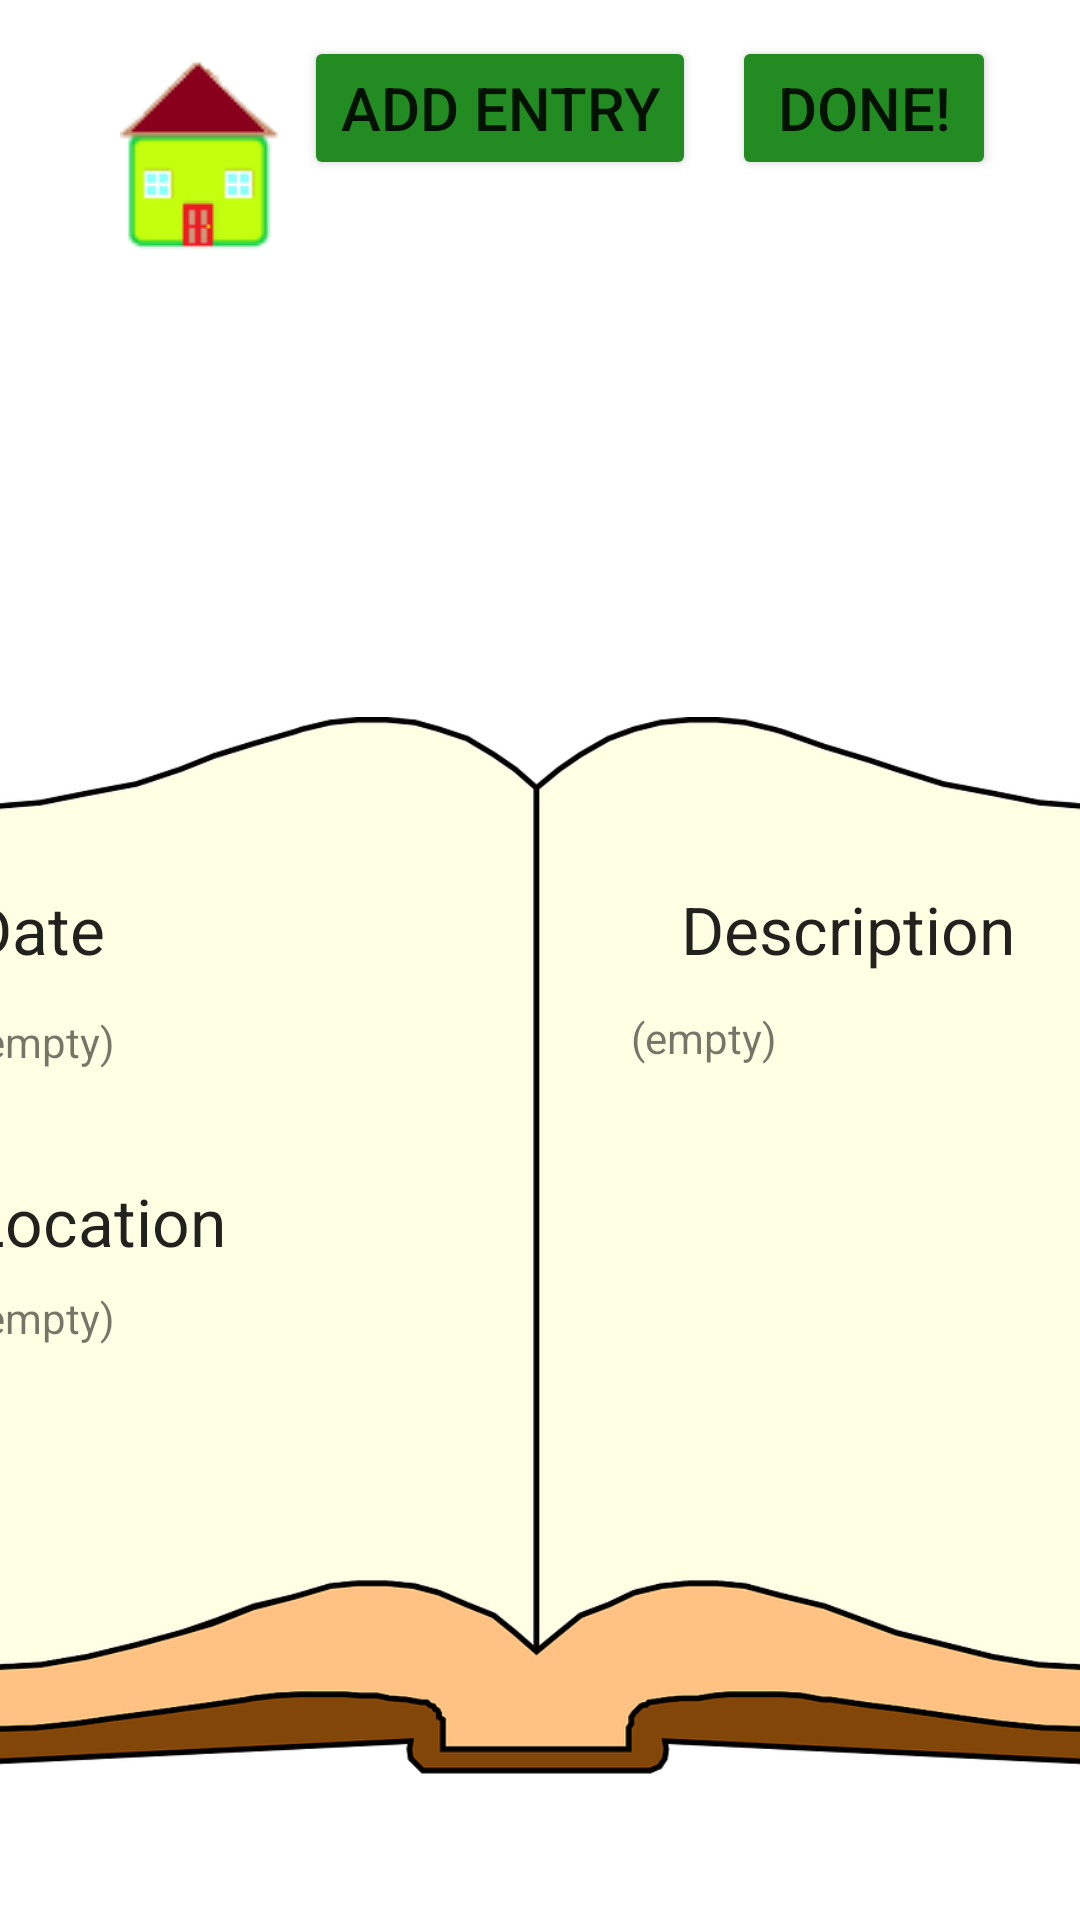

Screen size 1080 x 1920. Icon name, then its center in pixels as (x=x, y=y):
home: (x=198, y=155)
